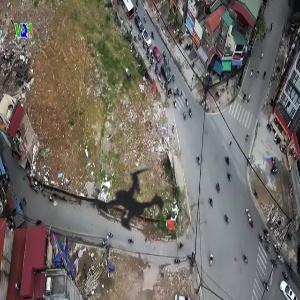drone: (29, 97, 230, 298)
